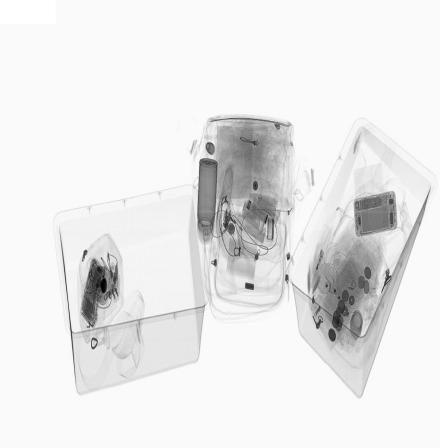Lighter: (310, 249, 325, 290)
